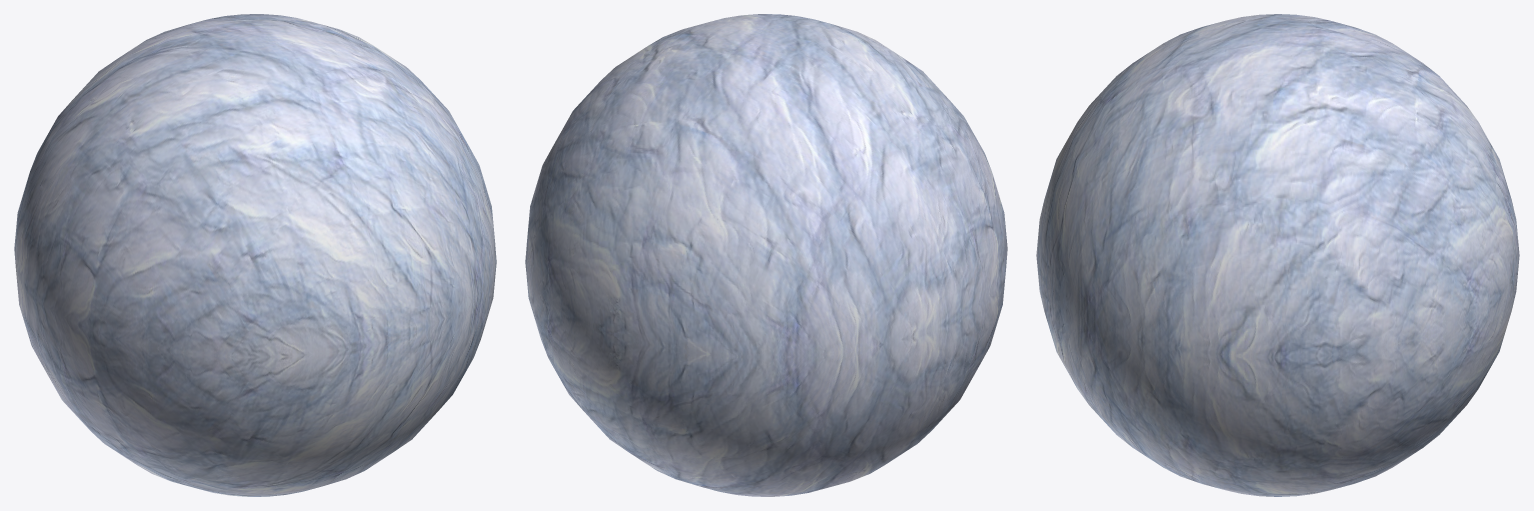
Rendered from Ice_planet_2.FBX.
The picture shows the model from 3 angles, left to right: view 1: azimuth 30°, elevation 25°; view 2: azimuth 150°, elevation 25°; view 3: azimuth 270°, elevation 25°; orthographic projection.
Parts seen in each view (by area): view 1: ice_planet_2; view 2: ice_planet_2; view 3: ice_planet_2.
Part boxes in pixels (x1,y1,x2,y2): ice_planet_2: [14, 14, 496, 496]; ice_planet_2: [525, 14, 1007, 496]; ice_planet_2: [1036, 14, 1519, 496].
Bounding box in the file's own units: 69.73 × 69.73 × 69.73.
